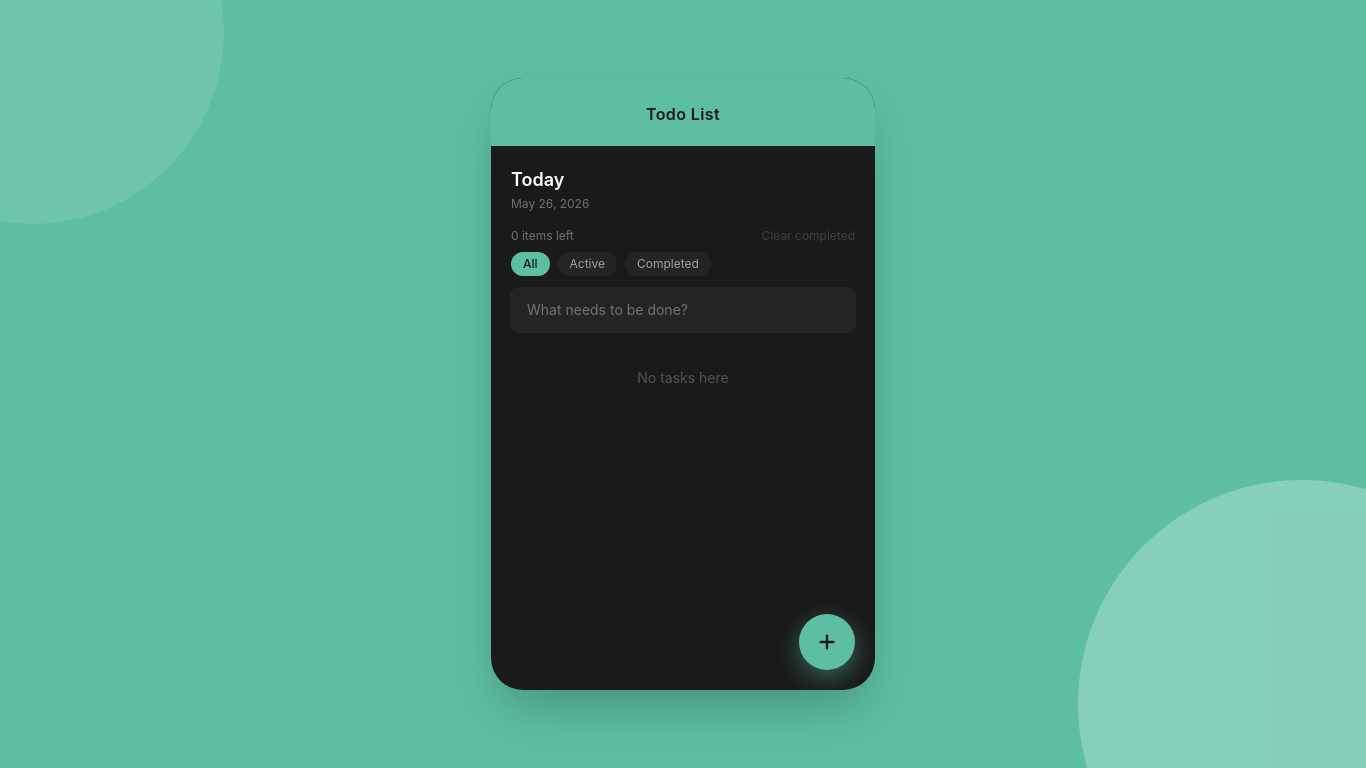
adds todos via Enter and via Add button
The width and height of the screenshot is (1366, 768).
Type "Task 1" into the field with placeholder "What needs to be done?" at point(683, 310), box top-left (527, 300), bottom-right (839, 320)
Then press Enter
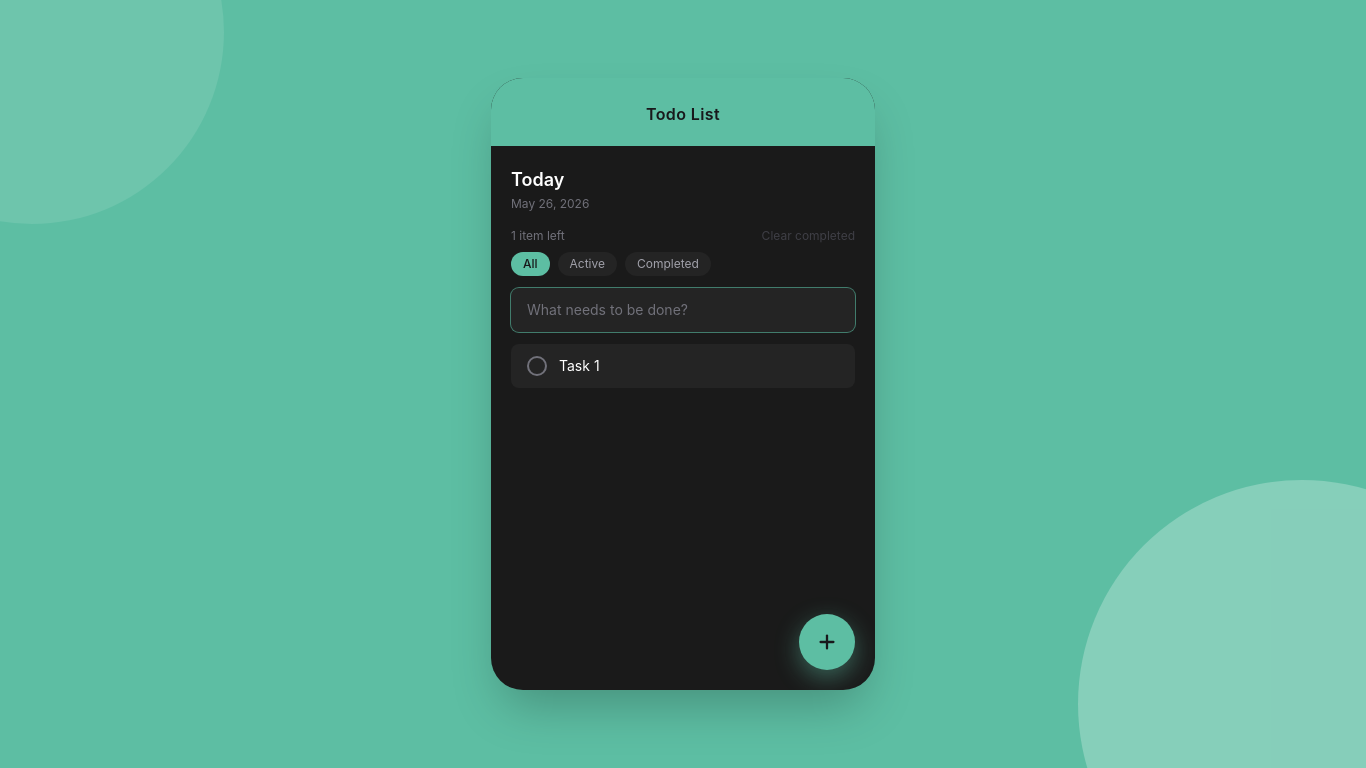
Type "Task 2" into the field with placeholder "What needs to be done?" at point(683, 310), box top-left (527, 300), bottom-right (839, 320)
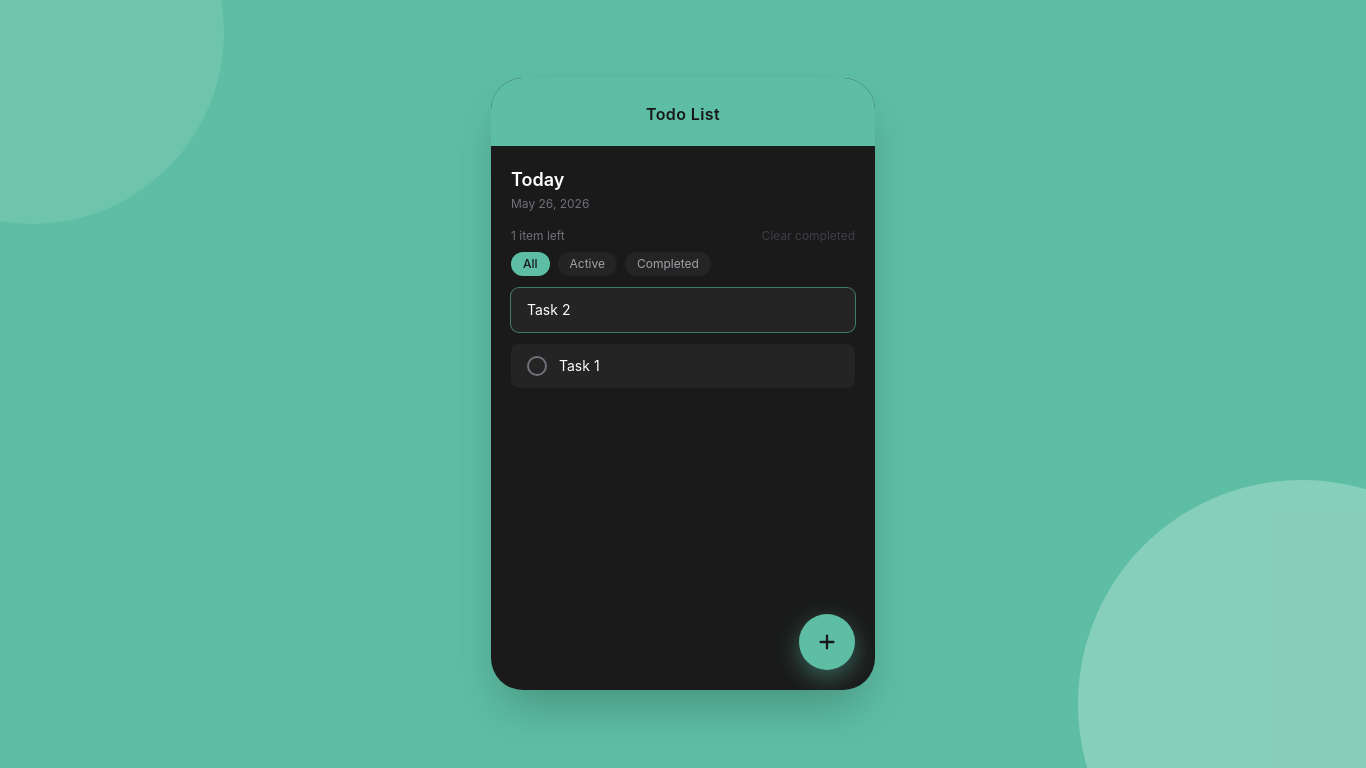
Click the button named "add" at point(827, 642), box top-left (799, 614), bottom-right (855, 670)
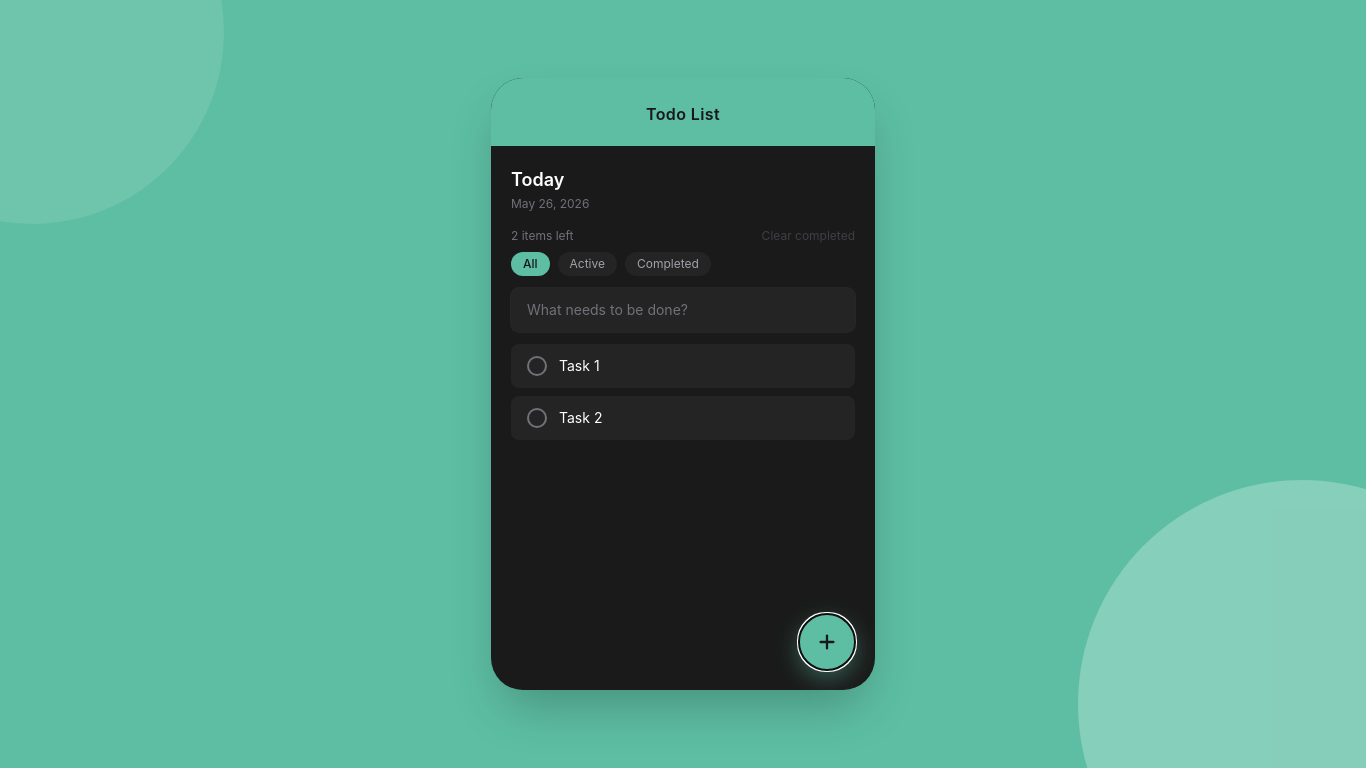
Check: the text "Task 1" is shown, box top-left (559, 357), bottom-right (600, 374)
Check: the text "Task 2" is shown, box top-left (559, 409), bottom-right (602, 426)
Check: the field with placeholder "What needs to be done?" is empty, box top-left (527, 300), bottom-right (839, 320)
